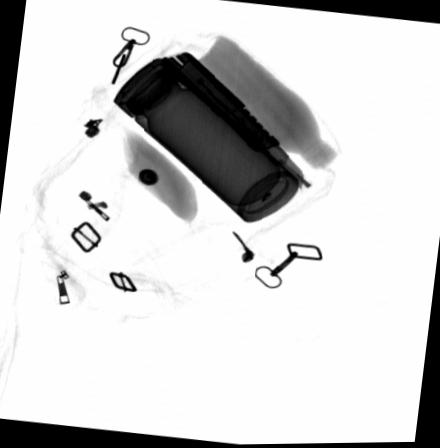Knife: (158, 50, 306, 191)
